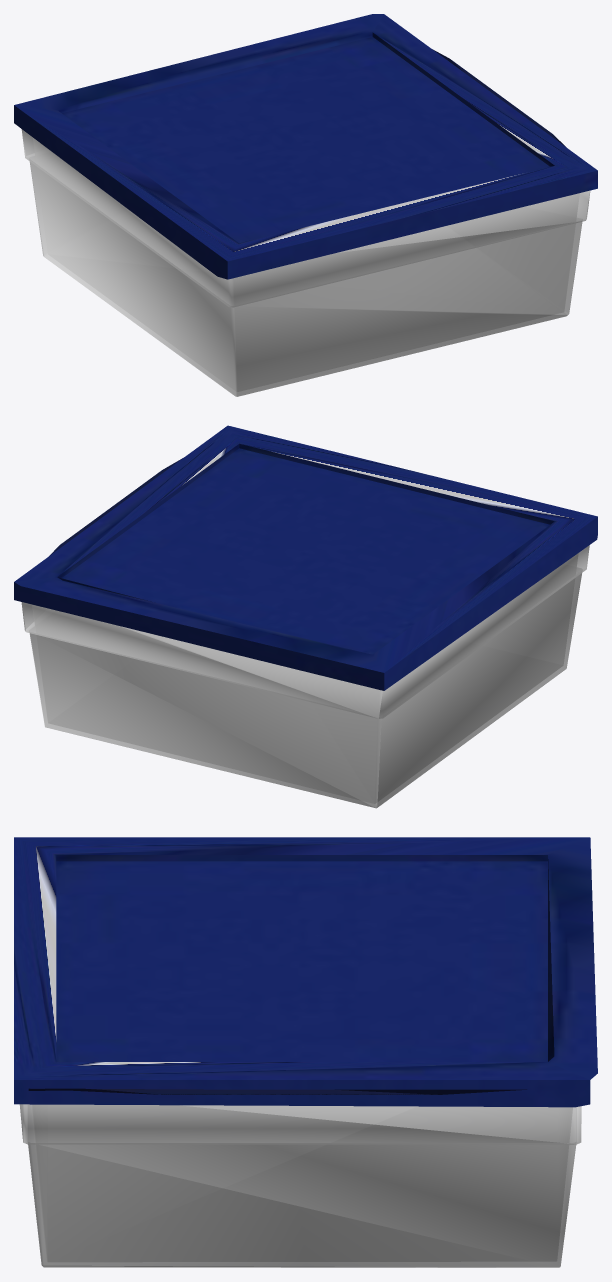
The model's file is 14045_Plastic_Food_Storage_v1_l3.obj.
The picture shows the model from 3 angles, top to bottom: view 1: azimuth 30°, elevation 25°; view 2: azimuth 150°, elevation 25°; view 3: azimuth 270°, elevation 25°; orthographic projection. The views are drawn at different scales.
Visible parts, largest first — view 1: 14045_Plastic_Food_Storage_v1_l3; view 2: 14045_Plastic_Food_Storage_v1_l3; view 3: 14045_Plastic_Food_Storage_v1_l3.
Boxes of the visible parts, x1=… form: 14045_Plastic_Food_Storage_v1_l3: x1=14, y1=14, x2=597, y2=396; 14045_Plastic_Food_Storage_v1_l3: x1=14, y1=425, x2=597, y2=808; 14045_Plastic_Food_Storage_v1_l3: x1=14, y1=837, x2=597, y2=1267.
Bounding box in the file's own units: 0.145 × 0.0538 × 0.1412.
2 materials, 1 textured.
